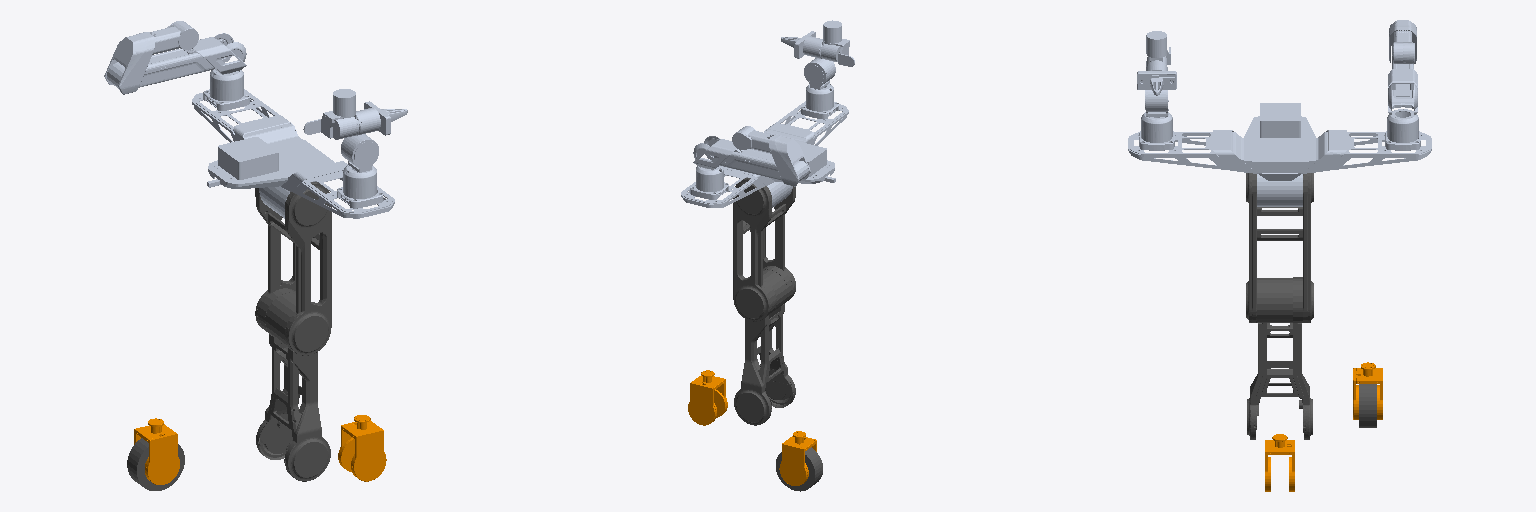
--- Render facts (derived) ---
The picture shows the robot from 3 angles, left to right: view 1: azimuth 30°, elevation 25°; view 2: azimuth 150°, elevation 25°; view 3: azimuth 270°, elevation 25°; orthographic projection.
Robot: mmp_revB_invconfig_upright_a1x — 33 links, 32 joints (18 revolute, 4 continuous, 6 prismatic, 4 fixed); root link root; default pose: all joints at 0.
Links seen in each view (by area): view 1: torso_link3, torso_link1, torso_link2, left_arm_link2, left_arm_link3, steer_motor_link1, steer_motor_link2, right_arm_base_link, left_arm_base_link, right_arm_link4, wheel_motor_link2, right_arm_link1 (+1 smaller); view 2: torso_link1, torso_link2, torso_link3, left_arm_link2, left_arm_link3, steer_motor_link1, steer_motor_link2, left_arm_base_link, right_arm_base_link, right_arm_link4, wheel_motor_link2, right_arm_link1 (+1 smaller); view 3: torso_link3, torso_link1, torso_link2, left_arm_link2, left_arm_base_link, right_arm_base_link, left_arm_link3, steer_motor_link2, steer_motor_link1, wheel_motor_link2, right_gripper_link, right_arm_link4 (+1 smaller).
Link boxes in pixels (x1,y1,x2,y2): torso_link3: (192, 89, 394, 218); torso_link1: (256, 288, 330, 481); torso_link2: (255, 182, 331, 355); left_arm_link2: (107, 33, 246, 88); left_arm_link3: (104, 21, 198, 94); steer_motor_link1: (338, 415, 386, 481); steer_motor_link2: (134, 418, 179, 484); right_arm_base_link: (337, 165, 383, 208); left_arm_base_link: (203, 69, 249, 110); right_arm_link4: (303, 89, 355, 138); wheel_motor_link2: (127, 438, 184, 490); right_arm_link1: (341, 134, 378, 172); torso_link1: (734, 266, 795, 425); torso_link2: (733, 178, 795, 321); torso_link3: (681, 101, 848, 207); left_arm_link2: (693, 136, 808, 180); left_arm_link3: (732, 126, 810, 186); steer_motor_link1: (688, 370, 727, 425); steer_motor_link2: (779, 431, 816, 485); left_arm_base_link: (690, 166, 728, 199); right_arm_base_link: (801, 83, 838, 119); right_arm_link4: (823, 20, 854, 66); wheel_motor_link2: (776, 447, 822, 491); right_arm_link1: (804, 58, 835, 89); torso_link3: (1128, 103, 1431, 206); torso_link1: (1247, 277, 1312, 439); torso_link2: (1246, 173, 1313, 322); left_arm_link2: (1388, 45, 1417, 114); left_arm_base_link: (1385, 109, 1420, 150); right_arm_base_link: (1139, 112, 1174, 150); left_arm_link3: (1389, 20, 1416, 63); steer_motor_link2: (1353, 362, 1382, 419); steer_motor_link1: (1265, 434, 1294, 491); wheel_motor_link2: (1359, 384, 1376, 427); right_gripper_link: (1137, 60, 1176, 89); right_arm_link4: (1146, 31, 1170, 64).
Bounding box of the posed robot: 0.756 × 1.07 × 1.66 m (x, y, z).
Meshes: 30 distinct files referenced, 17 mesh visuals loaded (17 binary STL); not drawn: 13 (reference not matched to a file when rendering).

The robot description file, URDF, robot "mmp_revB_invconfig_upright_a1x":
<?xml version='1.0' encoding='utf-8'?>
<robot name="mmp_revB_invconfig_upright_a1x">
  <link name="root">
    <inertial>
      <mass value="0.0" />
      <inertia ixx="0.0" ixy="0.0" ixz="0.0" iyy="0.0" iyz="0.0" izz="0.0" />
    </inertial>
  </link>
  <link name="root_arm_1_link_1">
    <inertial>
      <mass value="0.0" />
      <inertia ixx="0.0" ixy="0.0" ixz="0.0" iyy="0.0" iyz="0.0" izz="0.0" />
    </inertial>
  </link>
  <link name="root_arm_1_link_2">
    <inertial>
      <mass value="0.0" />
      <inertia ixx="0.0" ixy="0.0" ixz="0.0" iyy="0.0" iyz="0.0" izz="0.0" />
    </inertial>
  </link>
  <joint name="root_x_axis_joint" type="prismatic">
    <parent link="root" />
    <child link="root_arm_1_link_1" />
    <axis xyz="1 0 0" />
    <limit effort="100" lower="-20" upper="20" velocity="0.50" />
    <dynamics damping="10.0" friction="10" />
  </joint>
  <joint name="root_y_axis_joint" type="prismatic">
    <parent link="root_arm_1_link_1" />
    <child link="root_arm_1_link_2" />
    <axis xyz="0 1 0" />
    <limit effort="100" lower="-20" upper="20" velocity="0.50" />
    <dynamics damping="10.0" friction="10" />
  </joint>
  <joint name="root_z_rotation_joint" type="continuous">
    <parent link="root_arm_1_link_2" />
    <child link="base_link" />
    <axis xyz="0 0 1" />
    <dynamics damping="10.0" friction="1" />
  </joint>
  <link name="base_link">
    <inertial>
      <origin xyz="0.0718033657159837 -0.0016279349766449 0.128750850965126" rpy="0 0 0" />
      <mass value="55.175458000000006" />
      <inertia ixx="0.7091439621748391" ixy="0.00026033355850026276" ixz="-0.02918132695881465" iyy="0.5644987371904934" iyz="-0.0018370051566710135" izz="1.081275384753322" />
    </inertial>
    <visual>
      <origin xyz="0 0 0" rpy="0 0 0" />
      <geometry>
        <mesh filename="../meshes/base_link.STL" scale="1.3 1.3 1.3" />
      </geometry>
      <material name="">
        <color rgba="0.294117647058824 0.294117647058824 0.294117647058824 1" />
      </material>
    </visual>
    <collision>
      <origin xyz="0 0 0" rpy="0 0 0" />
      <geometry>
        <mesh filename="../meshes/base_link.STL" scale="1.3 1.3 1.3" />
      </geometry>
    </collision>
  </link>
  <link name="steer_motor_link1">
    <inertial>
      <origin xyz="-1.76196610579549E-07 -7.75116053202478E-05 -0.0852489956386505" rpy="0 0 0" />
      <mass value="3.2955" />
      <inertia ixx="0.0012574121504820043" ixy="2.2804726547482952e-08" ixz="2.452627620827573e-08" iyy="0.0018709489611526027" iyz="1.3385715211544818e-07" izz="0.0007852354928719962" />
    </inertial>
    <visual>
      <origin xyz="0 0 0" rpy="0 0 0" />
      <geometry>
        <mesh filename="../meshes/steer_motor_link1.STL" scale="1.3 1.3 1.3" />
      </geometry>
      <material name="">
        <color rgba="1 0.6 0 1" />
      </material>
    </visual>
    <collision>
      <origin xyz="0 0 0" rpy="0 0 0" />
      <geometry>
        <mesh filename="../meshes/steer_motor_link1.STL" scale="1.3 1.3 1.3" />
      </geometry>
    </collision>
  </link>
  <joint name="steer_motor_joint1" type="revolute">
    <origin xyz="0.37937899999999997 -0.00193661 0.23614500000000002" rpy="0 0 0" />
    <parent link="base_link" />
    <child link="steer_motor_link1" />
    <axis xyz="0 0 1" />
    <limit lower="-3.1416" upper="3.1416" effort="20" velocity="20" />
  </joint>
  <link name="wheel_motor_link1">
    <inertial>
      <origin xyz="0 -9.99250577455509E-13 -2.34534613952064E-15" rpy="0 0 0" />
      <mass value="3.2955" />
      <inertia ixx="0.003887530433150002" ixy="7.507032468166306e-18" ixz="-3.2204534178287284e-19" iyy="0.006721559323371557" iyz="1.3148451983999317e-16" izz="0.003887530433150002" />
    </inertial>
    <visual>
      <origin xyz="0 0 0" rpy="0 0 0" />
      <geometry>
        <mesh filename="../meshes/wheel_motor_link1.STL" scale="1.3 1.3 1.3" />
      </geometry>
      <material name="">
        <color rgba="0.4 0.4 0.4 1" />
      </material>
    </visual>
    <collision>
      <origin xyz="0 0 0" rpy="0 0 0" />
      <geometry>
        <mesh filename="../meshes/wheel_motor_link1.STL" scale="1.3 1.3 1.3" />
      </geometry>
    </collision>
  </link>
  <joint name="wheel_motor_joint1" type="continuous">
    <origin xyz="0.0 0.0 -0.145145" rpy="0 0 0" />
    <parent link="steer_motor_link1" />
    <child link="wheel_motor_link1" />
    <axis xyz="0 1 0" />
  </joint>
  <link name="steer_motor_link2">
    <inertial>
      <origin xyz="1.76196610607304E-07 7.75116053202962E-05 -0.0852489956386505" rpy="0 0 0" />
      <mass value="3.2955" />
      <inertia ixx="0.0012574121504820043" ixy="2.2804726547506195e-08" ixz="-2.4526276208257906e-08" iyy="0.0018709489611526027" iyz="-1.3385715211548122e-07" izz="0.0007852354928719925" />
    </inertial>
    <visual>
      <origin xyz="0 0 0" rpy="0 0 0" />
      <geometry>
        <mesh filename="../meshes/steer_motor_link2.STL" scale="1.3 1.3 1.3" />
      </geometry>
      <material name="">
        <color rgba="1 0.6 0 1" />
      </material>
    </visual>
    <collision>
      <origin xyz="0 0 0" rpy="0 0 0" />
      <geometry>
        <mesh filename="../meshes/steer_motor_link2.STL" scale="1.3 1.3 1.3" />
      </geometry>
    </collision>
  </link>
  <joint name="steer_motor_joint2" type="revolute">
    <origin xyz="-0.21862099999999998 0.31006300000000003 0.23614500000000002" rpy="0 0 0" />
    <parent link="base_link" />
    <child link="steer_motor_link2" />
    <axis xyz="0 0 1" />
    <limit lower="-3.1416" upper="3.1416" effort="20" velocity="20" />
  </joint>
  <link name="wheel_motor_link2">
    <inertial>
      <origin xyz="2.77555756156289E-17 -1.94289029309402E-16 -2.34621350125863E-15" rpy="0 0 0" />
      <mass value="3.2955" />
      <inertia ixx="0.003887530433150002" ixy="7.466776800443459e-18" ixz="-3.2204534178287284e-19" iyy="0.006721559323371557" iyz="1.3147223478514615e-16" izz="0.003887530433150002" />
    </inertial>
    <visual>
      <origin xyz="0 0 0" rpy="0 0 0" />
      <geometry>
        <mesh filename="../meshes/wheel_motor_link2.STL" scale="1.3 1.3 1.3" />
      </geometry>
      <material name="">
        <color rgba="0.4 0.4 0.4 1" />
      </material>
    </visual>
    <collision>
      <origin xyz="0 0 0" rpy="0 0 0" />
      <geometry>
        <mesh filename="../meshes/wheel_motor_link2.STL" scale="1.3 1.3 1.3" />
      </geometry>
    </collision>
  </link>
  <joint name="wheel_motor_joint2" type="continuous">
    <origin xyz="0.0 0.0 -0.145145" rpy="0 0 0" />
    <parent link="steer_motor_link2" />
    <child link="wheel_motor_link2" />
    <axis xyz="0 1 0" />
  </joint>
  <link name="steer_motor_link3">
    <inertial>
      <origin xyz="1.76196610579549E-07 7.75116053202407E-05 -0.0852489956386505" rpy="0 0 0" />
      <mass value="3.2955" />
      <inertia ixx="0.0012574121504820043" ixy="2.2804726547471513e-08" ixz="-2.452627620826641e-08" iyy="0.0018709489611526027" iyz="-1.3385715211548643e-07" izz="0.0007852354928719925" />
    </inertial>
    <visual>
      <origin xyz="0 0 0" rpy="0 0 0" />
      <geometry>
        <mesh filename="../meshes/steer_motor_link3.STL" scale="1.3 1.3 1.3" />
      </geometry>
      <material name="">
        <color rgba="1 0.6 0 1" />
      </material>
    </visual>
    <collision>
      <origin xyz="0 0 0" rpy="0 0 0" />
      <geometry>
        <mesh filename="../meshes/steer_motor_link3.STL" scale="1.3 1.3 1.3" />
      </geometry>
    </collision>
  </link>
  <joint name="steer_motor_joint3" type="revolute">
    <origin xyz="-0.21862099999999998 -0.313937 0.23614500000000002" rpy="0 0 0" />
    <parent link="base_link" />
    <child link="steer_motor_link3" />
    <axis xyz="0 0 1" />
    <limit lower="-3.1416" upper="3.1416" effort="20" velocity="20" />
  </joint>
  <link name="wheel_motor_link3">
    <inertial>
      <origin xyz="0 -1.94289029309402E-16 -2.34274405430668E-15" rpy="0 0 0" />
      <mass value="3.2955" />
      <inertia ixx="0.003887530433150002" ixy="7.426521132720575e-18" ixz="-3.220453417828732e-19" iyy="0.006721559323371557" iyz="1.31388794692625e-16" izz="0.003887530433150002" />
    </inertial>
    <visual>
      <origin xyz="0 0 0" rpy="0 0 0" />
      <geometry>
        <mesh filename="../meshes/wheel_motor_link3.STL" scale="1.3 1.3 1.3" />
      </geometry>
      <material name="">
        <color rgba="0.4 0.4 0.4 1" />
      </material>
    </visual>
    <collision>
      <origin xyz="0 0 0" rpy="0 0 0" />
      <geometry>
        <mesh filename="../meshes/wheel_motor_link3.STL" scale="1.3 1.3 1.3" />
      </geometry>
    </collision>
  </link>
  <joint name="wheel_motor_joint3" type="continuous">
    <origin xyz="0.0 0.0 -0.145145" rpy="0 0 0" />
    <parent link="steer_motor_link3" />
    <child link="wheel_motor_link3" />
    <axis xyz="0 1 0" />
  </joint>
  <link name="torso_link1">
    <inertial>
      <origin xyz="0.00321196798398059 0.0116566745256909 0.100697975240297" rpy="0 0 0" />
      <mass value="10.560979000000001" />
      <inertia ixx="0.011529074411369196" ixy="1.4460211913609374e-05" ixz="-0.00041595884620352535" iyy="0.012136408242605893" iyz="0.0001540430039061122" izz="0.0013180678246637898" />
    </inertial>
    <visual>
      <origin xyz="0 0 0" rpy="0 0 0" />
      <geometry>
        <mesh filename="../meshes/torso_link1.STL" scale="1.3 1.3 1.3" />
      </geometry>
      <material name="">
        <color rgba="0.4 0.4 0.4 1" />
      </material>
    </visual>
    <collision>
      <origin xyz="0 0 0" rpy="0 0 0" />
      <geometry>
        <mesh filename="../meshes/torso_link1.STL" scale="1.3 1.3 1.3" />
      </geometry>
    </collision>
  </link>
  <joint name="torso_joint1" type="revolute">
    <origin xyz="0.1193803 0.000468429 0.193245" rpy="0 0 0" />
    <parent link="base_link" />
    <child link="torso_link1" />
    <axis xyz="0 1 0" />
    <limit lower="-1.5708" upper="0.436333" effort="100" velocity="2.5" />
  </joint>
  <link name="torso_link2">
    <inertial>
      <origin xyz="0.00627300956924463 0.00536087570300695 0.184118796618929" rpy="0 0 0" />
      <mass value="6.105463" />
      <inertia ixx="0.11493031811101684" ixy="-2.071665256501134e-06" ixz="0.0011062755741899752" iyy="0.12073341030574361" iyz="3.3419957067781406e-06" izz="0.00687844285077311" />
    </inertial>
    <visual>
      <origin xyz="0 0 0" rpy="0 0 0" />
      <geometry>
        <mesh filename="../meshes/torso_link2.STL" scale="1.3 1.3 1.3" />
      </geometry>
      <material name="">
        <color rgba="0.4 0.4 0.4 1" />
      </material>
    </visual>
    <collision>
      <origin xyz="0 0 0" rpy="0 0 0" />
      <geometry>
        <mesh filename="../meshes/torso_link2.STL" scale="1.3 1.3 1.3" />
      </geometry>
    </collision>
  </link>
  <joint name="torso_joint2" type="revolute">
    <origin xyz="0.0 -0.002405 0.45499999999999996" rpy="0 0 0" />
    <parent link="torso_link1" />
    <child link="torso_link2" />
    <axis xyz="0 1 0" />
    <limit lower="-2.705262" upper="2.705262" effort="100" velocity="2.5" />
  </joint>
  <link name="torso_link3">
    <inertial>
      <origin xyz="-0.0416383086406449 0.000484599582373232 0.051111008977659" rpy="0 0 0" />
      <mass value="11.936301" />
      <inertia ixx="0.02403080141236261" ixy="-1.6762423582358219e-06" ixz="-4.778074838607351e-05" iyy="0.02013585315350183" iyz="-6.219566000902056e-07" izz="0.031376558153237595" />
    </inertial>
    <visual>
      <origin xyz="0 0 0" rpy="0 0 0" />
      <geometry>
        <mesh filename="../meshes/torso_link3.STL" scale="1.3 1.3 1.3" />
      </geometry>
      <material name="">
        <color rgba="0.807843137254902 0.843137254901961 0.905882352941176 1" />
      </material>
    </visual>
    <collision>
      <origin xyz="0 0 0" rpy="0 0 0" />
      <geometry>
        <mesh filename="../meshes/torso_link3.STL" scale="1.3 1.3 1.3" />
      </geometry>
    </collision>
  </link>
  <joint name="torso_joint3" type="revolute">
    <origin xyz="0.0001254305 0.0 0.45499999999999996" rpy="0 0 0" />
    <parent link="torso_link2" />
    <child link="torso_link3" />
    <axis xyz="0 -1 0" />
    <limit lower="-1.5708" upper="1.5708" effort="100" velocity="2.5" />
  </joint>
  <link name="left_arm_base_link">
    <inertial>
      <origin xyz="0.0030333225964161 -0.000695374211760413 0.0297999913998699" rpy="0 0 0" />
      <mass value="1.7268420000000002" />
      <inertia ixx="0.000778374763346095" ixy="5.214004774580019e-06" ixz="2.1115049987187746e-05" iyy="0.0007418326746915795" iyz="-1.3579126768926804e-05" izz="0.0008816719395808001" />
    </inertial>
    <visual>
      <origin xyz="0 0 0" rpy="0 0 0" />
      <geometry>
        <mesh filename="../meshes/left_arm_base_link.STL" scale="1.3 1.3 1.3" />
      </geometry>
      <material name="">
        <color rgba="0.807843137254902 0.843137254901961 0.905882352941176 1" />
      </material>
    </visual>
    <collision>
      <origin xyz="0 0 0" rpy="0 0 0" />
      <geometry>
        <mesh filename="../meshes/left_arm_base_link.STL" scale="1.3 1.3 1.3" />
      </geometry>
    </collision>
  </link>
  <joint name="left_arm_base_joint" type="fixed">
    <origin xyz="0.0 0.43550000000000005 0.159978" rpy="0 0 0" />
    <parent link="torso_link3" />
    <child link="left_arm_base_link" />
    <axis xyz="0 0 0" />
  </joint>
  <link name="left_arm_link1">
    <inertial>
      <origin xyz="3.42079032877862E-07 -0.00198629091504759 0.0468866154783616" rpy="0 0 0" />
      <mass value="1.843283" />
      <inertia ixx="0.0008322355053285922" ixy="-1.7741404144027596e-09" ixz="3.131374719453586e-08" iyy="0.0010017832778707958" iyz="3.4840149012722743e-08" izz="0.0008121175656409317" />
    </inertial>
    <visual>
      <origin xyz="0 0 0" rpy="0 0 0" />
      <geometry>
        <mesh filename="../meshes/left_arm_link1.STL" scale="1.3 1.3 1.3" />
      </geometry>
      <material name="">
        <color rgba="0.807843137254902 0.843137254901961 0.905882352941176 1" />
      </material>
    </visual>
    <collision>
      <origin xyz="0 0 0" rpy="0 0 0" />
      <geometry>
        <mesh filename="../meshes/left_arm_link1.STL" scale="1.3 1.3 1.3" />
      </geometry>
    </collision>
  </link>
  <joint name="left_arm_joint1" type="revolute">
    <origin xyz="0.0 0.0 0.111865" rpy="0 0 0" />
    <parent link="left_arm_base_link" />
    <child link="left_arm_link1" />
    <axis xyz="0 0 1" />
    <limit lower="-2.8798" upper="2.8798" effort="27" velocity="10.472" />
  </joint>
  <link name="left_arm_link2">
    <inertial>
      <origin xyz="-0.122675172740935 -0.0295384346078661 0.00365030178710546" rpy="0 0 0" />
      <mass value="2.39473" />
      <inertia ixx="0.0014415151106912957" ixy="-8.080783068320186e-05" ixz="3.309804315459829e-05" iyy="0.010197097160919585" iyz="4.446169551274881e-06" izz="0.010322392662845107" />
    </inertial>
    <visual>
      <origin xyz="0 0 0" rpy="0 0 0" />
      <geometry>
        <mesh filename="../meshes/left_arm_link2.STL" scale="1.3 1.3 1.3" />
      </geometry>
      <material name="">
        <color rgba="0.807843137254902 0.843137254901961 0.905882352941176 1" />
      </material>
    </visual>
    <collision>
      <origin xyz="0 0 0" rpy="0 0 0" />
      <geometry>
        <mesh filename="../meshes/left_arm_link2.STL" scale="1.3 1.3 1.3" />
      </geometry>
    </collision>
  </link>
  <joint name="left_arm_joint2" type="revolute">
    <origin xyz="0.0 0.039975000000000004 0.064025" rpy="0 0 0" />
    <parent link="left_arm_link1" />
    <child link="left_arm_link2" />
    <axis xyz="0 1 0" />
    <limit lower="0" upper="3.1416" effort="50" velocity="12.5664" />
  </joint>
  <link name="left_arm_link3">
    <inertial>
      <origin xyz="0.0566624793223791 -0.0291316466078999 0.0568018844686509" rpy="0 0 0" />
      <mass value="1.623583" />
      <inertia ixx="0.0009575926620089902" ixy="3.8130102218271915e-05" ixz="-0.0004889695623255038" iyy="0.0024926838473802605" iyz="-2.982903113075039e-05" izz="0.0020423031282395246" />
    </inertial>
    <visual>
      <origin xyz="0 0 0" rpy="0 0 0" />
      <geometry>
        <mesh filename="../meshes/left_arm_link3.STL" scale="1.3 1.3 1.3" />
      </geometry>
      <material name="">
        <color rgba="0.807843137254902 0.843137254901961 0.905882352941176 1" />
      </material>
    </visual>
    <collision>
      <origin xyz="0 0 0" rpy="0 0 0" />
      <geometry>
        <mesh filename="../meshes/left_arm_link3.STL" scale="1.3 1.3 1.3" />
      </geometry>
    </collision>
  </link>
  <joint name="left_arm_joint3" type="revolute">
    <origin xyz="-0.39 0.000325052 0.0" rpy="0 0 0" />
    <parent link="left_arm_link2" />
    <child link="left_arm_link3" />
    <axis xyz="0 1 0" />
    <limit lower="-3.3161" upper="0" effort="27" velocity="10.472" />
  </joint>
  <link name="left_arm_link4">
    <inertial>
      <origin xyz="0.0699840030193581 -0.0287504697364447 0.0541968318197228" rpy="0 0 0" />
      <mass value="0.920543" />
      <inertia ixx="0.0002457985264790678" ixy="-3.476626101267254e-08" ixz="-1.581249842019802e-08" iyy="0.0002522220228546476" iyz="2.8876454793724976e-06" izz="0.0002484935759132123" />
    </inertial>
    <visual>
      <origin xyz="0 0 0" rpy="0 0 0" />
      <geometry>
        <mesh filename="../meshes/left_arm_link4.STL" scale="1.3 1.3 1.3" />
      </geometry>
      <material name="">
        <color rgba="0.807843137254902 0.843137254901961 0.905882352941176 1" />
      </material>
    </visual>
    <collision>
      <origin xyz="0 0 0" rpy="0 0 0" />
      <geometry>
        <mesh filename="../meshes/left_arm_link4.STL" scale="1.3 1.3 1.3" />
      </geometry>
    </collision>
  </link>
  <joint name="left_arm_joint4" type="revolute">
    <origin xyz="0.22711 0.000646607 0.0981305" rpy="0 0 0" />
    <parent link="left_arm_link3" />
    <child link="left_arm_link4" />
    <axis xyz="0 1 0" />
    <limit lower="-1.5708" upper="1.5708" effort="14" velocity="32.9867" />
  </joint>
  <link name="left_arm_link5">
    <inertial>
      <origin xyz="-0.000803198983898074 -2.29028914278118E-07 -0.0402656141956459" rpy="0 0 0" />
      <mass value="0.11863800000000001" />
      <inertia ixx="0.00021550625018007327" ixy="-7.227510247737848e-13" ixz="4.144143913876283e-14" iyy="0.00021401237842700905" iyz="-1.3224857063457504e-10" izz="0.0002111017464788042" />
    </inertial>
    <visual>
      <origin xyz="0 0 0" rpy="0 0 0" />
      <geometry>
        <mesh filename="../meshes/left_arm_link5.STL" scale="1.3 1.3 1.3" />
      </geometry>
      <material name="">
        <color rgba="0.807843137254902 0.843137254901961 0.905882352941176 1" />
      </material>
    </visual>
    <collision>
      <origin xyz="0 0 0" rpy="0 0 0" />
      <geometry>
        <mesh filename="../meshes/left_arm_link5.STL" scale="1.3 1.3 1.3" />
      </geometry>
    </collision>
  </link>
  <joint name="left_arm_joint5" type="revolute">
    <origin xyz="0.10400000000000001 -0.0409474 0.05265" rpy="0 0 0" />
    <parent link="left_arm_link4" />
    <child link="left_arm_link5" />
    <axis xyz="0 0 1" />
    <limit lower="-1.5708" upper="1.5708" effort="14" velocity="32.9867" />
  </joint>
  <link name="left_arm_link6">
    <inertial>
      <origin xyz="0.00709944426961403 -8.90673146347609E-10 -3.82632235882419E-05" rpy="0 0 0" />
      <mass value="0.068107" />
      <inertia ixx="1.2792062220704462e-05" ixy="-7.450227847814211e-13" ixz="-4.683377592905693e-09" iyy="6.778799546044331e-06" iyz="-1.4679613784250588e-14" izz="6.747544468450137e-06" />
    </inertial>
    <visual>
      <origin xyz="0 0 0" rpy="0 0 0" />
      <geometry>
        <mesh filename="../meshes/left_arm_link6.STL" scale="1.3 1.3 1.3" />
      </geometry>
      <material name="">
        <color rgba="0.807843137254902 0.843137254901961 0.905882352941176 1" />
      </material>
    </visual>
    <collision>
      <origin xyz="0 0 0" rpy="0 0 0" />
      <geometry>
        <mesh filename="../meshes/left_arm_link6.STL" scale="1.3 1.3 1.3" />
      </geometry>
    </collision>
  </link>
  <joint name="left_arm_joint6" type="revolute">
    <origin xyz="0.0292539 0.0 -0.05265" rpy="0 0 0" />
    <parent link="left_arm_link5" />
    <child link="left_arm_link6" />
    <axis xyz="1 0 0" />
    <limit lower="-2.8798" upper="2.8798" effort="14" velocity="32.9867" />
  </joint>
  <link name="left_gripper_link">
    <inertial>
      <origin xyz="-0.0311072323899603 1.17979991887118E-08 7.93394685505433E-08" rpy="0 0 0" />
      <mass value="1.326988" />
      <inertia ixx="0.0006530358618676651" ixy="-2.2501337901582337e-10" ixz="1.970241820044874e-09" iyy="0.00036623576942365404" iyz="-3.0397263811687723e-07" izz="0.0006130837563040071" />
    </inertial>
    <visual>
      <origin xyz="0 0 0" rpy="0 0 0" />
      <geometry>
        <mesh filename="../meshes/left_gripper_link.STL" scale="1.3 1.3 1.3" />
      </geometry>
      <material name="">
        <color rgba="0.807843137254902 0.843137254901961 0.905882352941176 1" />
      </material>
    </visual>
    <collision>
      <origin xyz="0 0 0" rpy="0 0 0" />
      <geometry>
        <mesh filename="../meshes/left_gripper_link.STL" scale="1.3 1.3 1.3" />
      </geometry>
    </collision>
  </link>
  <joint name="left_gripper_joint" type="fixed">
    <origin xyz="0.106145 0.0 0.0" rpy="0 0 0" />
    <parent link="left_arm_link6" />
    <child link="left_gripper_link" />
    <axis xyz="0 0 0" />
  </joint>
  <link name="left_gripper_finger_link1">
    <inertial>
      <origin xyz="-0.0195895895552112 -0.0151136845490034 0.00542254359093075" rpy="0 0 0" />
      <mass value="0.04437174853082797" />
      <inertia ixx="8.932171881707838e-06" ixy="1.4814018763622262e-06" ixz="1.9015873552945064e-07" iyy="2.1203774590649255e-05" iyz="2.3000409574039116e-07" izz="2.4077689551805446e-05" />
    </inertial>
    <visual>
      <origin xyz="0 0 0" rpy="0 0 0" />
      <geometry>
        <mesh filename="../meshes/left_gripper_finger_link1.STL" scale="1.3 1.3 1.3" />
      </geometry>
      <material name="">
        <color rgba="0.807843137254902 0.843137254901961 0.905882352941176 1" />
      </material>
    </visual>
    <collision>
      <origin xyz="0 0 0" rpy="0 0 0" />
      <geometry>
        <mesh filename="../meshes/left_gripper_finger_link1.STL" scale="1.3 1.3 1.3" />
      </geometry>
    </collision>
  </link>
  <joint name="left_gripper_finger_joint1" type="prismatic">
    <origin xyz="0.047957 0.0174889 0.000156767" rpy="0 0 0" />
    <parent link="left_gripper_link" />
    <child link="left_gripper_finger_link1" />
    <axis xyz="0 1 0" />
    <limit lower="0" upper="0.05" effort="100" velocity="0.25" />
  </joint>
  <link name="left_gripper_finger_link2">
    <inertial>
      <origin xyz="-0.0195895857999098 0.0151136893508115 -0.00542254357246619" rpy="0 0 0" />
      <mass value="0.04437174875965452" />
      <inertia ixx="8.932171201294032e-06" ixy="-1.4813988641981738e-06" ixz="-1.9015870615658767e-07" iyy="2.1203775455108953e-05" iyz="2.3000411467565583e-07" izz="2.4077689675960774e-05" />
    </inertial>
    <visual>
      <origin xyz="0 0 0" rpy="0 0 0" />
      <geometry>
        <mesh filename="../meshes/left_gripper_finger_link2.STL" scale="1.3 1.3 1.3" />
      </geometry>
      <material name="">
        <color rgba="0.807843137254902 0.843137254901961 0.905882352941176 1" />
      </material>
    </visual>
    <collision>
      <origin xyz="0 0 0" rpy="0 0 0" />
      <geometry>
        <mesh filename="../meshes/left_gripper_finger_link2.STL" scale="1.3 1.3 1.3" />
      </geometry>
    </collision>
  </link>
  <joint name="left_gripper_finger_joint2" type="prismatic">
    <origin xyz="0.047957 -0.0174889 -0.000156767" rpy="0 0 0" />
    <parent link="left_gripper_link" />
    <child link="left_gripper_finger_link2" />
    <axis xyz="0 1 0" />
    <limit lower="-0.05" upper="0" effort="100" velocity="0.25" />
  </joint>
  <link name="right_arm_base_link">
    <inertial>
      <origin xyz="0.00303332259650781 -0.000695374211141575 0.0297999913998387" rpy="0 0 0" />
      <mass value="1.7268420000000002" />
      <inertia ixx="0.0007783747633451481" ixy="5.214004781961954e-06" ixz="2.1115049989375663e-05" iyy="0.0007418326746941748" iyz="-1.3579126764555534e-05" izz="0.0008816719395819697" />
    </inertial>
    <visual>
      <origin xyz="0 0 0" rpy="0 0 0" />
      <geometry>
        <mesh filename="../meshes/right_arm_base_link.STL" scale="1.3 1.3 1.3" />
      </geometry>
      <material name="">
        <color rgba="0.807843137254902 0.843137254901961 0.905882352941176 1" />
      </material>
    </visual>
    <collision>
      <origin xyz="0 0 0" rpy="0 0 0" />
      <geometry>
        <mesh filename="../meshes/right_arm_base_link.STL" scale="1.3 1.3 1.3" />
      </geometry>
    </collision>
  </link>
  <joint name="right_arm_base_joint" type="fixed">
    <origin xyz="0.0 -0.43550000000000005 0.159978" rpy="0 0 0" />
    <parent link="torso_link3" />
    <child link="right_arm_base_link" />
    <axis xyz="0 0 0" />
  </joint>
  <link name="right_arm_link1">
    <inertial>
      <origin xyz="3.42079032877862E-07 -0.00198629091504759 0.0468866154783616" rpy="0 0 0" />
      <mass value="1.843283" />
      <inertia ixx="0.0008322355053285922" ixy="-1.7741404144027596e-09" ixz="3.131374719453586e-08" iyy="0.0010017832778707958" iyz="3.4840149012722743e-08" izz="0.0008121175656409317" />
    </inertial>
    <visual>
      <origin xyz="0 0 0" rpy="0 0 0" />
      <geometry>
        <mesh filename="../meshes/right_arm_link1.STL" scale="1.3 1.3 1.3" />
      </geometry>
      <material name="">
        <color rgba="0.807843137254902 0.843137254901961 0.905882352941176 1" />
      </material>
    </visual>
    <collision>
      <origin xyz="0 0 0" rpy="0 0 0" />
      <geometry>
        <mesh filename="../meshes/right_arm_link1.STL" scale="1.3 1.3 1.3" />
      </geometry>
    </collision>
  </link>
  <joint name="right_arm_joint1" type="revolute">
    <origin xyz="0.0 0.0 0.111865" rpy="0 0 0" />
    <parent link="right_arm_base_link" />
    <child link="right_arm_link1" />
    <axis xyz="0 0 1" />
    <limit lower="-2.8798" upper="2.8798" effort="27" velocity="10.472" />
  </joint>
  <link name="right_arm_link2">
    <inertial>
      <origin xyz="-0.122675172740935 -0.0295384346078661 0.00365030178710546" rpy="0 0 0" />
      <mass value="2.39473" />
      <inertia ixx="0.0014415151106912957" ixy="-8.080783068320186e-05" ixz="3.309804315459829e-05" iyy="0.010197097160919585" iyz="4.446169551274881e-06" izz="0.010322392662845107" />
    </inertial>
    <visual>
      <origin xyz="0 0 0" rpy="0 0 0" />
      <geometry>
        <mesh filename="../meshes/right_arm_link2.STL" scale="1.3 1.3 1.3" />
      </geometry>
      <material name="">
        <color rgba="0.807843137254902 0.843137254901961 0.905882352941176 1" />
      </material>
    </visual>
    <collision>
      <origin xyz="0 0 0" rpy="0 0 0" />
      <geometry>
        <mesh filename="../meshes/right_arm_link2.STL" scale="1.3 1.3 1.3" />
      </geometry>
    </collision>
  </link>
  <joint name="right_arm_joint2" type="revolute">
    <origin xyz="0.0 0.039975000000000004 0.064025" rpy="0 0 0" />
    <parent link="right_arm_link1" />
    <child link="right_arm_link2" />
    <axis xyz="0 1 0" />
    <limit lower="0" upper="3.1416" effort="50" velocity="12.5664" />
  </joint>
  <link name="right_arm_link3">
    <inertial>
      <origin xyz="0.0566624793223791 -0.0291316466078999 0.0568018844686509" rpy="0 0 0" />
      <mass value="1.623583" />
      <inertia ixx="0.0009575926620089902" ixy="3.8130102218271915e-05" ixz="-0.0004889695623255038" iyy="0.0024926838473802605" iyz="-2.982903113075039e-05" izz="0.0020423031282395246" />
    </inertial>
    <visual>
      <origin xyz="0 0 0" rpy="0 0 0" />
      <geometry>
        <mesh filename="../meshes/right_arm_link3.STL" scale="1.3 1.3 1.3" />
      </geometry>
      <material name="">
        <color rgba="0.807843137254902 0.843137254901961 0.905882352941176 1" />
      </material>
    </visual>
    <collision>
      <origin xyz="0 0 0" rpy="0 0 0" />
      <geometry>
        <mesh filename="../meshes/right_arm_link3.STL" scale="1.3 1.3 1.3" />
      </geometry>
    </collision>
  </link>
  <joint name="right_arm_joint3" type="revolute">
    <origin xyz="-0.39 0.000325052 0.0" rpy="0 0 0" />
    <parent link="right_arm_link2" />
    <child link="right_arm_link3" />
    <axis xyz="0 1 0" />
    <limit lower="-3.3161" upper="0" effort="27" velocity="10.472" />
  </joint>
  <link name="right_arm_link4">
    <inertial>
      <origin xyz="0.0699840030193581 -0.0287504697364447 0.0541968318197228" rpy="0 0 0" />
      <mass value="0.920543" />
      <inertia ixx="0.0002457985264790678" ixy="-3.476626101267254e-08" ixz="-1.581249842019802e-08" iyy="0.0002522220228546476" iyz="2.8876454793724976e-06" izz="0.0002484935759132123" />
    </inertial>
    <visual>
      <origin xyz="0 0 0" rpy="0 0 0" />
      <geometry>
        <mesh filename="../meshes/right_arm_link4.STL" scale="1.3 1.3 1.3" />
      </geometry>
      <material name="">
        <color rgba="0.807843137254902 0.843137254901961 0.905882352941176 1" />
      </material>
    </visual>
    <collision>
      <origin xyz="0 0 0" rpy="0 0 0" />
      <geometry>
        <mesh filename="../meshes/right_arm_link4.STL" scale="1.3 1.3 1.3" />
      </geometry>
    </collision>
  </link>
  <joint name="right_arm_joint4" type="revolute">
    <origin xyz="0.22711 0.000646607 0.0981305" rpy="0 0 0" />
    <parent link="right_arm_link3" />
    <child link="right_arm_link4" />
    <axis xyz="0 1 0" />
    <limit lower="-1.5708" upper="1.5708" effort="14" velocity="32.9867" />
  </joint>
  <link name="right_arm_link5">
    <inertial>
      <origin xyz="-0.000803198983898074 -2.29028914278118E-07 -0.0402656141956459" rpy="0 0 0" />
      <mass value="0.11863800000000001" />
      <inertia ixx="0.00021550625018007327" ixy="-7.227510247737848e-13" ixz="4.144143913876283e-14" iyy="0.00021401237842700905" iyz="-1.3224857063457504e-10" izz="0.0002111017464788042" />
    </inertial>
    <visual>
      <origin xyz="0 0 0" rpy="0 0 0" />
      <geometry>
        <mesh filename="../meshes/right_arm_link5.STL" scale="1.3 1.3 1.3" />
      </geometry>
      <material name="">
        <color rgba="0.807843137254902 0.843137254901961 0.905882352941176 1" />
      </material>
    </visual>
    <collision>
      <origin xyz="0 0 0" rpy="0 0 0" />
      <geometry>
        <mesh filename="../meshes/right_arm_link5.STL" scale="1.3 1.3 1.3" />
      </geometry>
    </collision>
  </link>
  <joint name="right_arm_joint5" type="revolute">
    <origin xyz="0.10400000000000001 -0.0409474 0.05265" rpy="0 0 0" />
    <parent link="right_arm_link4" />
    <child link="right_arm_link5" />
    <axis xyz="0 0 1" />
    <limit lower="-1.5708" upper="1.5708" effort="14" velocity="32.9867" />
  </joint>
  <link name="right_arm_link6">
    <inertial>
      <origin xyz="0.00709944426961403 -8.90673146347609E-10 -3.82632235882419E-05" rpy="0 0 0" />
      <mass value="0.068107" />
      <inertia ixx="1.2792062220704462e-05" ixy="-7.450227847814211e-13" ixz="-4.683377592905693e-09" iyy="6.778799546044331e-06" iyz="-1.4679613784250588e-14" izz="6.747544468450137e-06" />
    </inertial>
    <visual>
      <origin xyz="0 0 0" rpy="0 0 0" />
      <geometry>
        <mesh filename="../meshes/right_arm_link6.STL" scale="1.3 1.3 1.3" />
      </geometry>
      <material name="">
        <color rgba="0.807843137254902 0.843137254901961 0.905882352941176 1" />
      </material>
    </visual>
    <collision>
      <origin xyz="0 0 0" rpy="0 0 0" />
      <geometry>
        <mesh filename="../meshes/right_arm_link6.STL" scale="1.3 1.3 1.3" />
      </geometry>
    </collision>
  </link>
  <joint name="right_arm_joint6" type="revolute">
    <origin xyz="0.0292539 0.0 -0.05265" rpy="0 0 0" />
    <parent link="right_arm_link5" />
    <child link="right_arm_link6" />
    <axis xyz="1 0 0" />
    <limit lower="-2.8798" upper="2.8798" effort="14" velocity="32.9867" />
  </joint>
  <link name="right_gripper_link">
    <inertial>
      <origin xyz="-0.0311072323899603 1.17979991887118E-08 7.93394685505433E-08" rpy="0 0 0" />
      <mass value="1.326988" />
      <inertia ixx="0.0006530358618676651" ixy="-2.2501337901582337e-10" ixz="1.970241820044874e-09" iyy="0.00036623576942365404" iyz="-3.0397263811687723e-07" izz="0.0006130837563040071" />
    </inertial>
    <visual>
      <origin xyz="0 0 0" rpy="0 0 0" />
      <geometry>
        <mesh filename="../meshes/right_gripper_link.STL" scale="1.3 1.3 1.3" />
      </geometry>
      <material name="">
        <color rgba="0.807843137254902 0.843137254901961 0.905882352941176 1" />
      </material>
    </visual>
    <collision>
      <origin xyz="0 0 0" rpy="0 0 0" />
      <geometry>
        <mesh filename="../meshes/right_gripper_link.STL" scale="1.3 1.3 1.3" />
      </geometry>
    </collision>
  </link>
  <joint name="right_gripper_joint" type="fixed">
    <origin xyz="0.106145 0.0 0.0" rpy="0 0 0" />
    <parent link="right_arm_link6" />
    <child link="right_gripper_link" />
    <axis xyz="0 0 0" />
  </joint>
  <link name="right_gripper_finger_link1">
    <inertial>
      <origin xyz="-0.0195895895552112 -0.0151136845490034 0.00542254359093075" rpy="0 0 0" />
      <mass value="0.04437174853082797" />
      <inertia ixx="8.932171881707838e-06" ixy="1.4814018763622262e-06" ixz="1.9015873552945064e-07" iyy="2.1203774590649255e-05" iyz="2.3000409574039116e-07" izz="2.4077689551805446e-05" />
    </inertial>
    <visual>
      <origin xyz="0 0 0" rpy="0 0 0" />
      <geometry>
        <mesh filename="../meshes/right_gripper_finger_link1.STL" scale="1.3 1.3 1.3" />
      </geometry>
      <material name="">
        <color rgba="0.807843137254902 0.843137254901961 0.905882352941176 1" />
      </material>
    </visual>
    <collision>
      <origin xyz="0 0 0" rpy="0 0 0" />
      <geometry>
        <mesh filename="../meshes/right_gripper_finger_link1.STL" scale="1.3 1.3 1.3" />
      </geometry>
    </collision>
  </link>
  <joint name="right_gripper_finger_joint1" type="prismatic">
    <origin xyz="0.047957 0.0174889 0.000156767" rpy="0 0 0" />
    <parent link="right_gripper_link" />
    <child link="right_gripper_finger_link1" />
    <axis xyz="0 1 0" />
    <limit lower="0" upper="0.05" effort="100" velocity="0.25" />
  </joint>
  <link name="right_gripper_finger_link2">
    <inertial>
      <origin xyz="-0.0195895857999098 0.0151136893508115 -0.00542254357246619" rpy="0 0 0" />
      <mass value="0.04437174875965452" />
      <inertia ixx="8.932171201294032e-06" ixy="-1.4813988641981738e-06" ixz="-1.9015870615658767e-07" iyy="2.1203775455108953e-05" iyz="2.3000411467565583e-07" izz="2.4077689675960774e-05" />
    </inertial>
    <visual>
      <origin xyz="0 0 0" rpy="0 0 0" />
      <geometry>
        <mesh filename="../meshes/right_gripper_finger_link2.STL" scale="1.3 1.3 1.3" />
      </geometry>
      <material name="">
        <color rgba="0.807843137254902 0.843137254901961 0.905882352941176 1" />
      </material>
    </visual>
    <collision>
      <origin xyz="0 0 0" rpy="0 0 0" />
      <geometry>
        <mesh filename="../meshes/right_gripper_finger_link2.STL" scale="1.3 1.3 1.3" />
      </geometry>
    </collision>
  </link>
  <joint name="right_gripper_finger_joint2" type="prismatic">
    <origin xyz="0.047957 -0.0174889 -0.000156767" rpy="0 0 0" />
    <parent link="right_gripper_link" />
    <child link="right_gripper_finger_link2" />
    <axis xyz="0 1 0" />
    <limit lower="-0.05" upper="0" effort="100" velocity="0.25" />
  </joint>
</robot>
